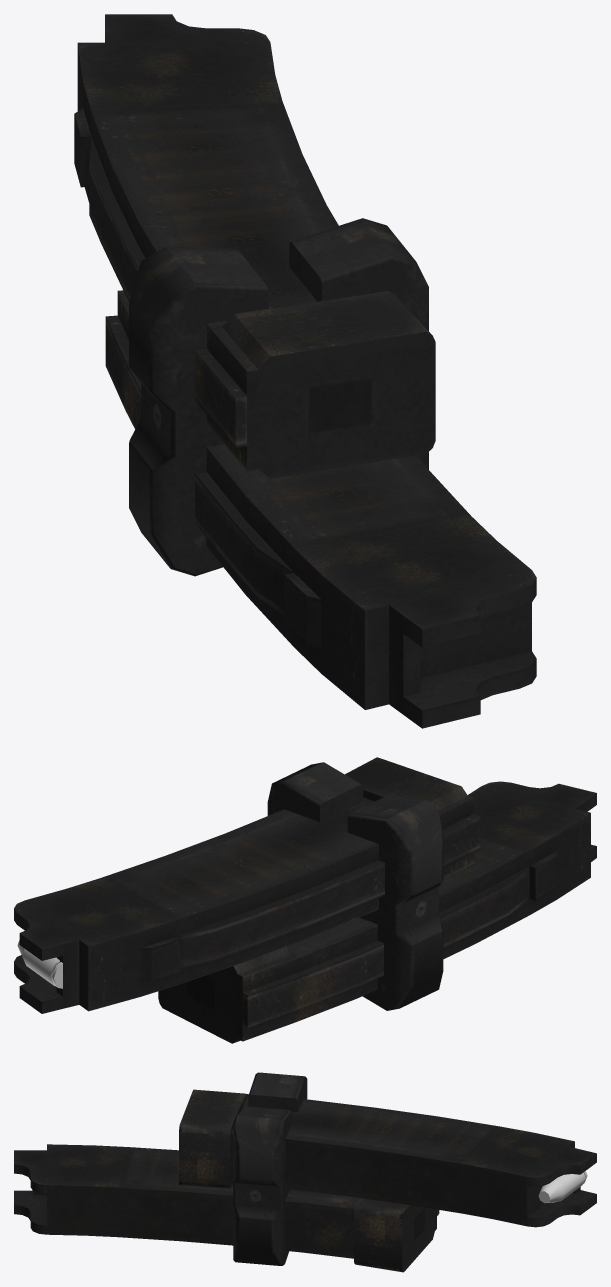
Rendered from t6_attach_fastmag_scorpion_view_LOD0.obj.
The picture shows the model from 3 angles, top to bottom: view 1: azimuth 30°, elevation 25°; view 2: azimuth 150°, elevation 25°; view 3: azimuth 270°, elevation 25°; orthographic projection. The views are drawn at different scales.
Parts seen in each view (by area): view 1: mtl_t6_wpn_smg_scorpion_camo3, mtl_t6_wpn_smg_scorpion_camo4; view 2: mtl_t6_wpn_smg_scorpion_camo3, mtl_t6_wpn_smg_scorpion_camo4, mtl_t6_attach_bullet; view 3: mtl_t6_wpn_smg_scorpion_camo3, mtl_t6_wpn_smg_scorpion_camo4, mtl_t6_attach_bullet.
Part boxes in pixels (x1,y1,x2,y2): mtl_t6_wpn_smg_scorpion_camo3: (77,14,536,728); mtl_t6_wpn_smg_scorpion_camo4: (74,108,435,648); mtl_t6_wpn_smg_scorpion_camo3: (14,781,596,1021); mtl_t6_wpn_smg_scorpion_camo4: (141,757,557,1043); mtl_t6_attach_bullet: (17,940,62,988); mtl_t6_wpn_smg_scorpion_camo3: (14,1094,596,1258); mtl_t6_wpn_smg_scorpion_camo4: (179,1072,439,1272); mtl_t6_attach_bullet: (538,1171,587,1203).
Bounding box in the file's own units: 11.33 × 8.09 × 29.14.
